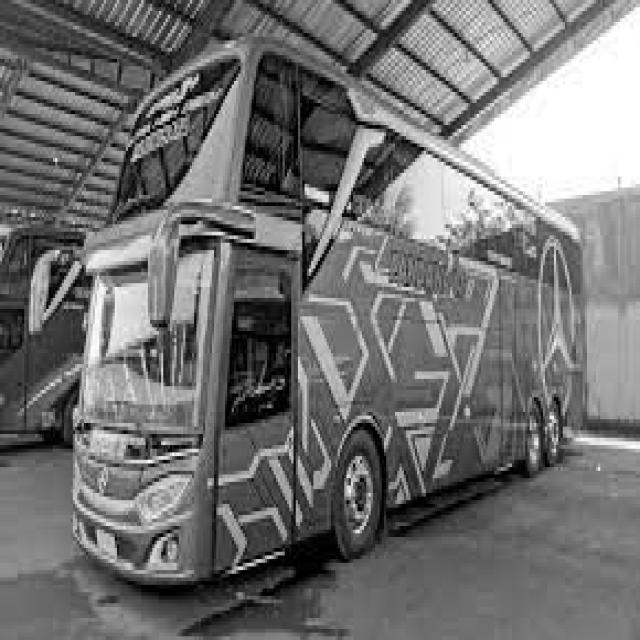Bus: (72, 41, 582, 586)
